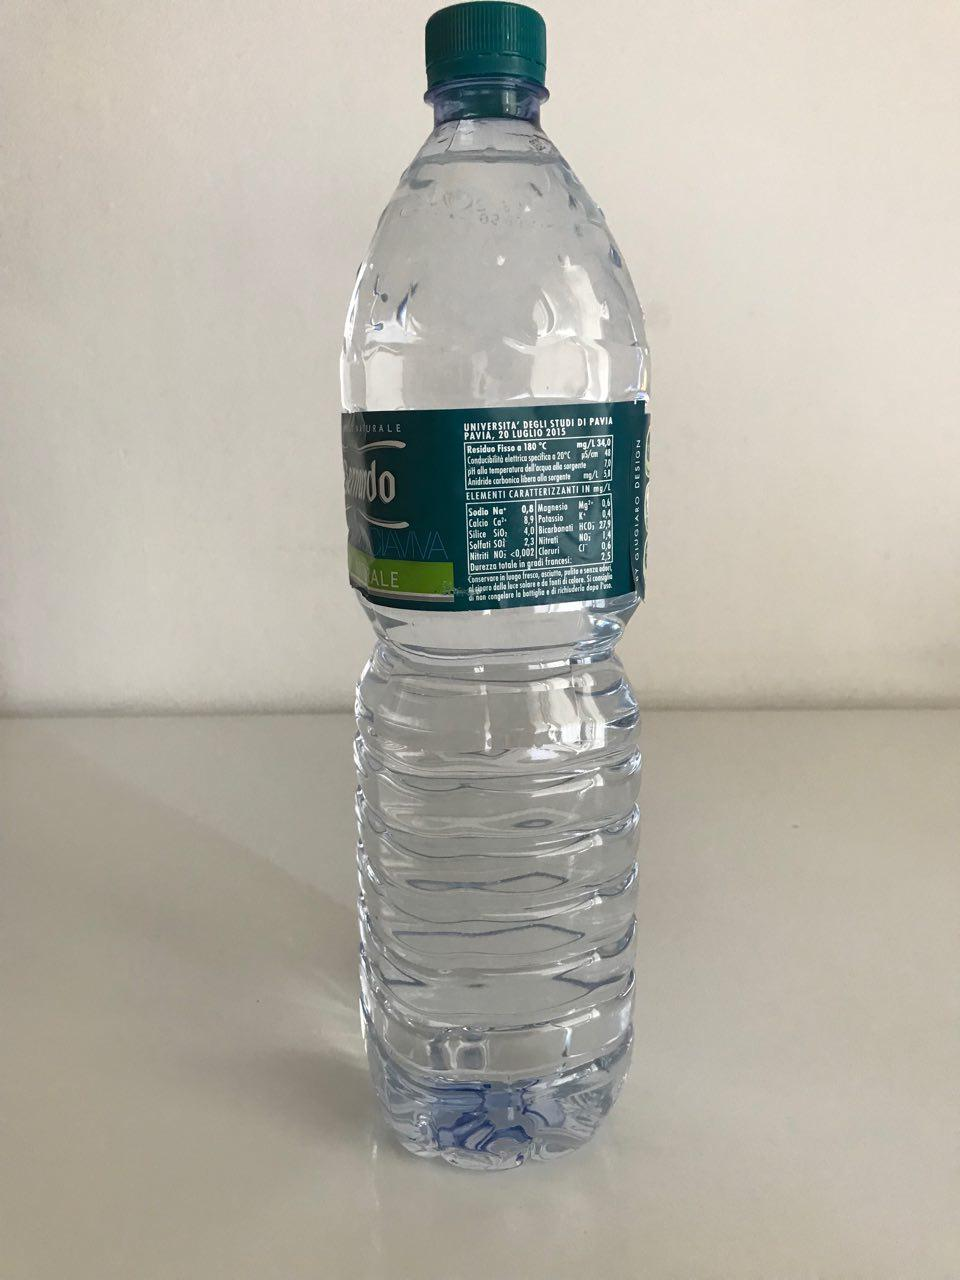san_bernardo: (335, 4, 655, 1172)
